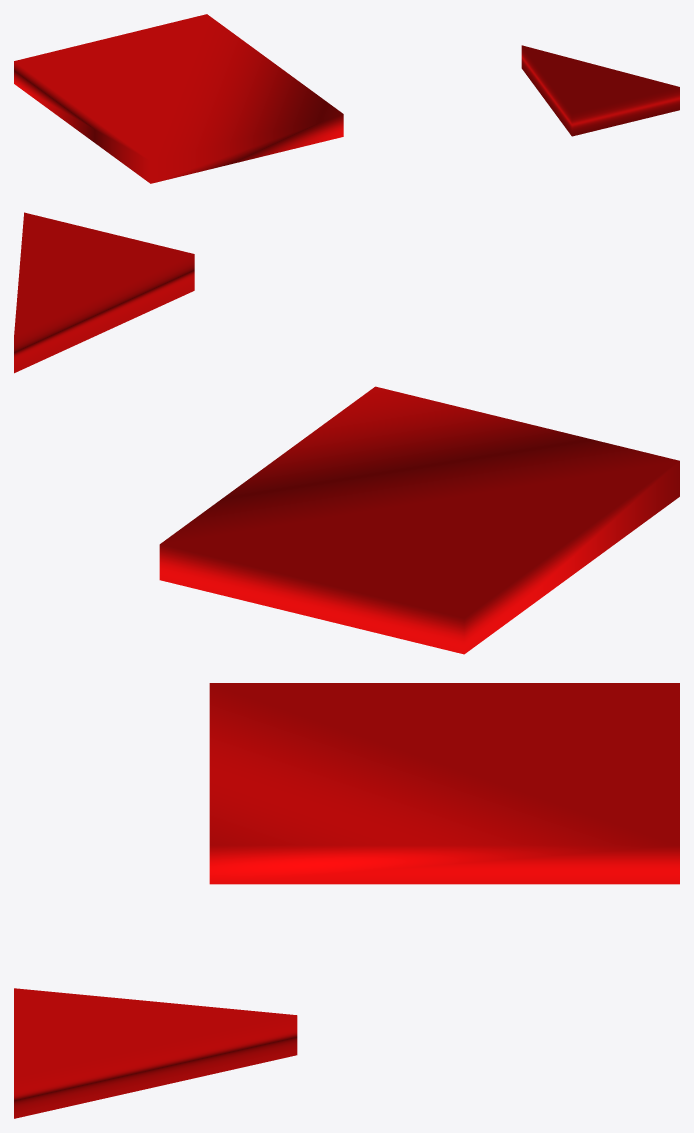
File: Triangle.dae
3 renders of one model, top to bottom at view 1: azimuth 30°, elevation 25°; view 2: azimuth 150°, elevation 25°; view 3: azimuth 270°, elevation 25°, orthographic. The views are drawn at different scales.
Visible parts, largest first — view 1: SketchUp; view 2: SketchUp; view 3: SketchUp.
Part boxes in pixels (x1,y1,x2,y2): SketchUp: [14, 14, 679, 183]; SketchUp: [14, 212, 679, 654]; SketchUp: [14, 683, 679, 1118].
Size of the model in its own units: 120 by 84.95 by 5.63.
